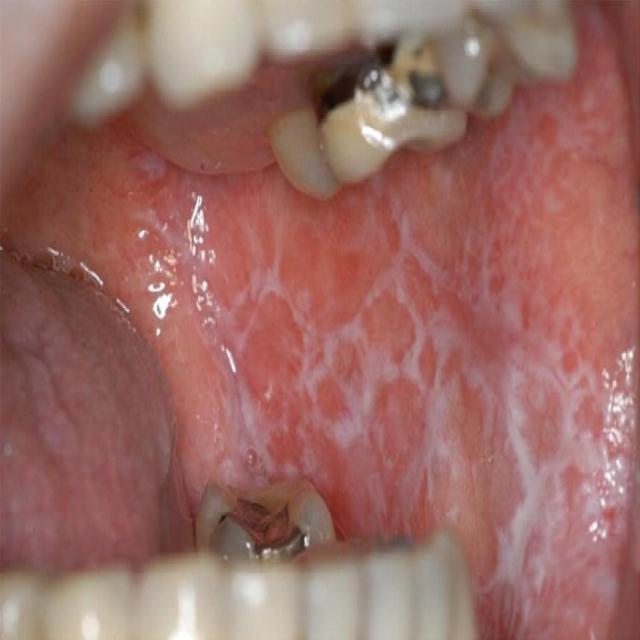leukoplakia-like-detection: (134, 151, 639, 637)
processing_area: (1, 0, 639, 639)
